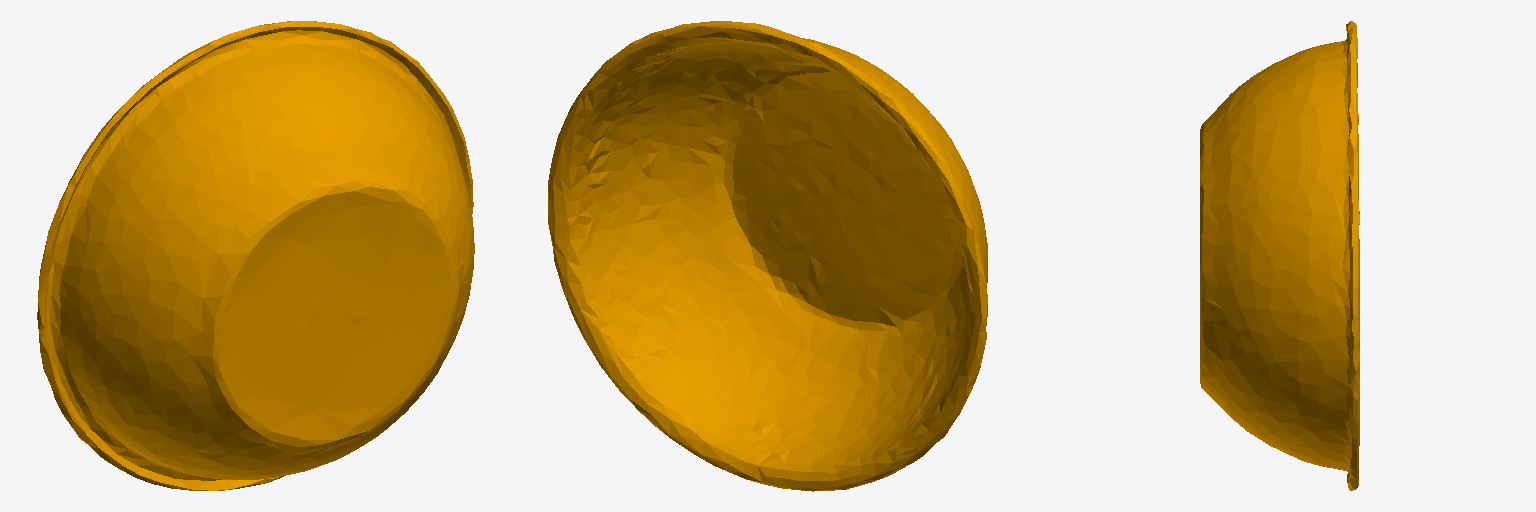
The robot description file, URDF, robot "indenter":
<robot name="indenter">
	<!-- <link name="world">
        </link>

        <joint name="world_to_indenter" type="prismatic">
                <parent link="world"/>
                <child link="indenter"/>
                <origin rpy="0.0 0.0 0.0" xyz="0.0 0.0 0.0"/>
                <axis xyz="0 1 0"/>
                <dynamics damping="0.0" friction="0.0"/>
                <limit lower="0.0" upper="0.4" velocity="1e9" effort="1e9"/>
        </joint> -->

	<link name="indenter">
		<visual>
			<origin rpy="0.0 0.0 0.0" xyz="0.0 0.0 0.0"/>
			<geometry>
				<mesh filename="../../meshes/target_objects/bowl_ycb.obj"/>
			</geometry>
		</visual>
		<collision>
			<origin rpy="0.0 0.0 0.0" xyz="0.0 0.0 0.0"/>
			<geometry>
				<mesh filename="../../meshes/target_objects/bowl_ycb.obj"/>
			</geometry>
		</collision>
		<inertial>
			<origin rpy="0.0 0.0 0.0" xyz="0.0 -8.64389e-3 0.0"/>
			<mass value="0.00224114"/>
			<inertia ixx="6.25553e-8" iyy="4.07645e-8" izz="6.25353e-8" ixy="0.0" ixz="4.69820e-15" iyz="0.0"/>
		</inertial>
	</link>
</robot>

--- Render facts (derived) ---
The picture shows the robot from 3 angles, left to right: view 1: azimuth 30°, elevation 25°; view 2: azimuth 150°, elevation 25°; view 3: azimuth 270°, elevation 25°; orthographic projection.
Model indenter with 1 links and 0 joints (none), rooted at indenter, posed all joints at 0.
Links seen in each view (by area): view 1: indenter; view 2: indenter; view 3: indenter.
Boxes of the visible links, x1,y1,x2,y2 form: indenter: (37, 21, 474, 490); indenter: (548, 21, 987, 491); indenter: (1200, 21, 1359, 490).
Bounding box of the posed robot: 0.1611 × 0.0549 × 0.1614 m (x, y, z).
Meshes: 1 distinct files referenced, 1 mesh visuals loaded (1 OBJ).